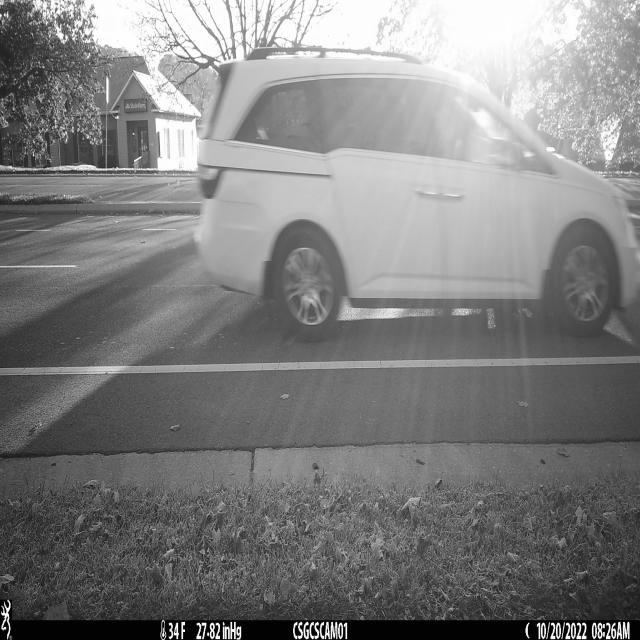Van: (193, 43, 640, 344)
